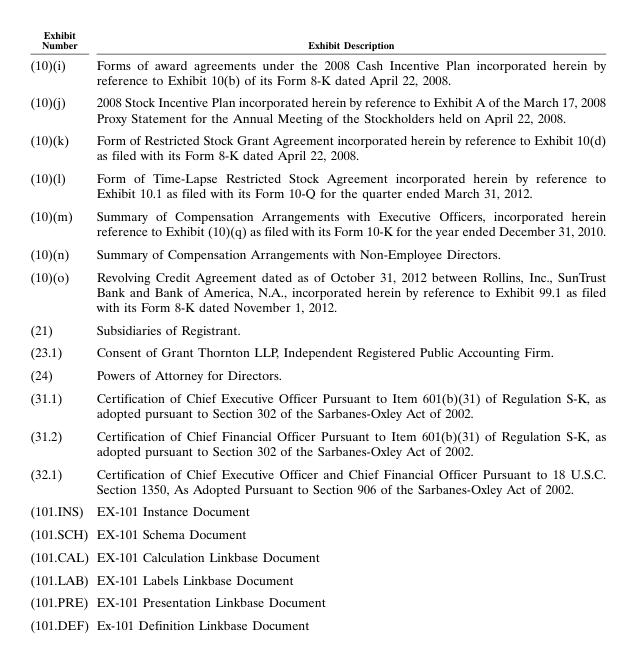table: (29, 28, 605, 632)
table column: (91, 28, 605, 632), (29, 28, 91, 632)
table column header: (29, 28, 605, 53)
table row: (29, 264, 605, 317), (29, 90, 605, 128), (29, 128, 605, 166), (29, 166, 605, 204), (29, 204, 605, 242), (29, 423, 605, 461), (29, 461, 605, 499), (29, 53, 605, 90), (29, 386, 605, 423), (29, 28, 605, 53), (29, 317, 605, 340), (29, 340, 605, 363), (29, 363, 605, 386), (29, 499, 605, 522), (29, 522, 605, 545), (29, 567, 605, 590), (29, 590, 605, 613), (29, 242, 605, 264), (29, 545, 605, 567), (29, 613, 605, 632)
